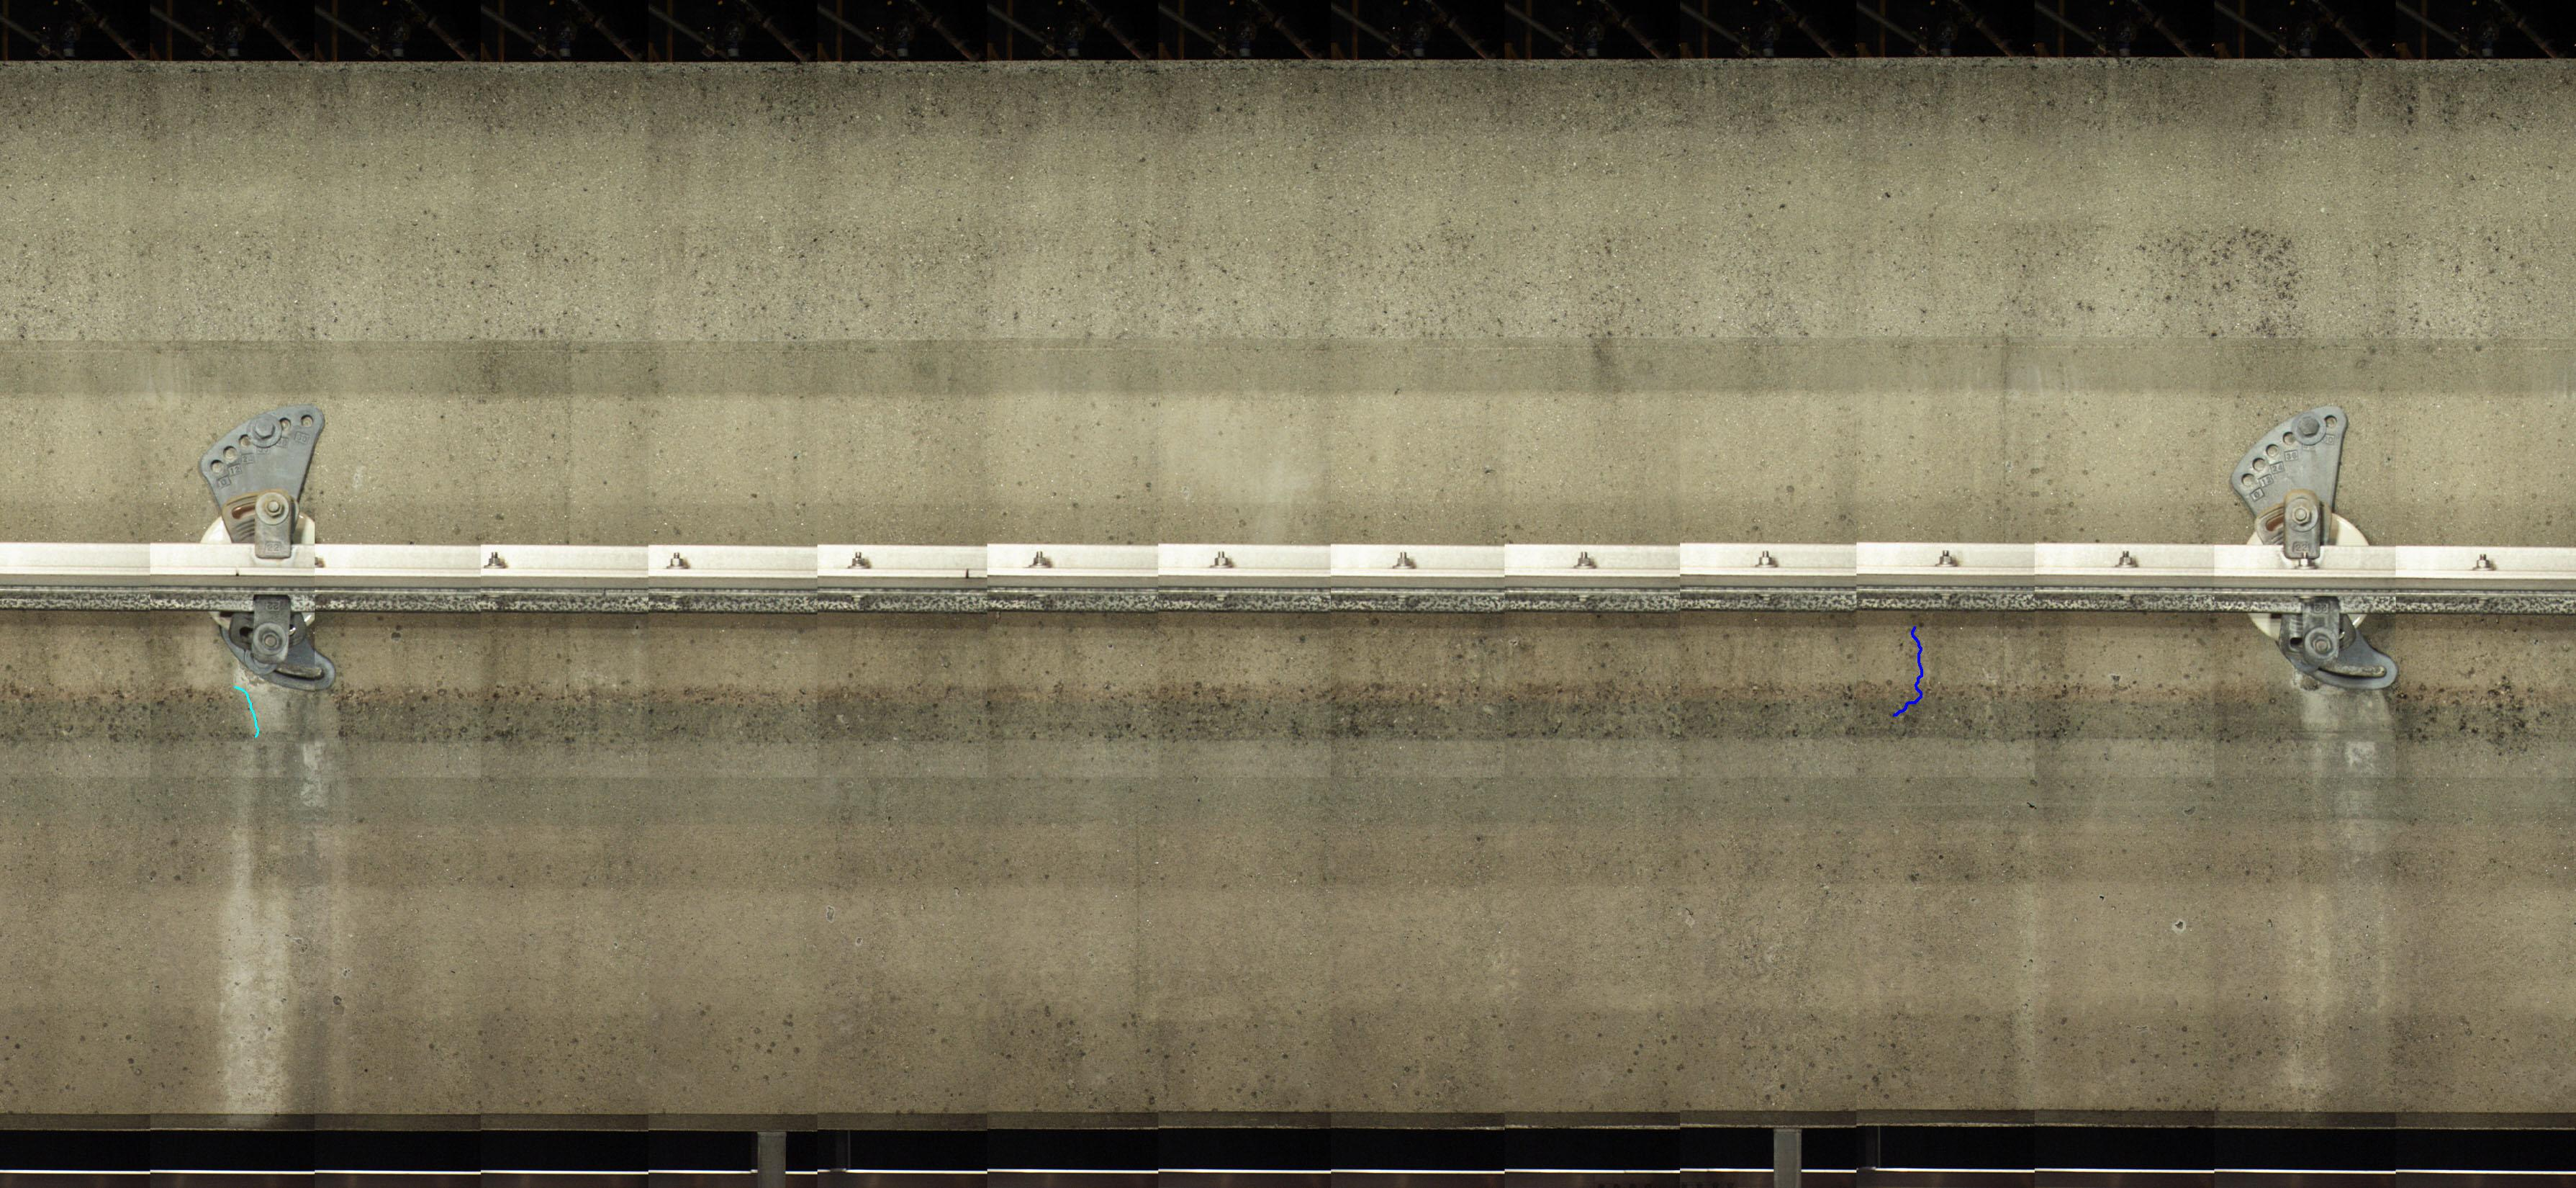concrete: (0, 611, 2573, 1122), (5, 59, 2568, 544)
